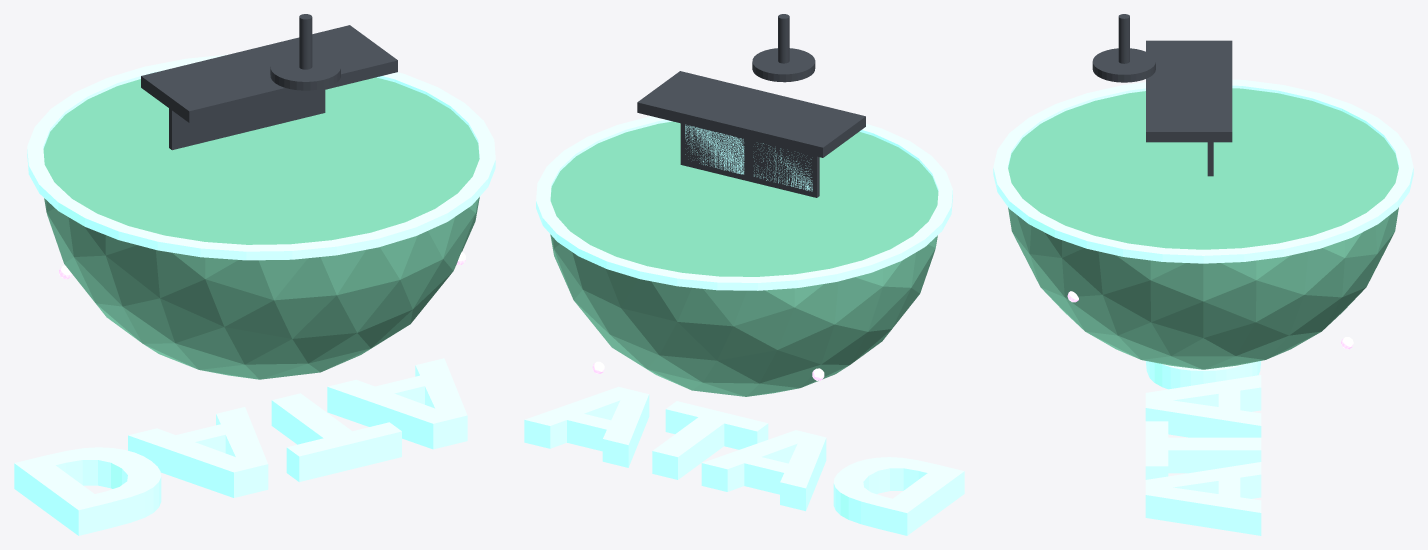
The model's file is data_dome.glb.
3 renders of one model, left to right at view 1: azimuth 30°, elevation 25°; view 2: azimuth 150°, elevation 25°; view 3: azimuth 270°, elevation 25°, orthographic. The views are drawn at different scales.
Visible parts, largest first — view 1: Dome_Glass, DATA_Text, Dome_Rim, Desk, Chair_Seat, Monitor_L, Monitor_R, Chair_Pole; view 2: Dome_Glass, DATA_Text, Dome_Rim, Desk, Monitor_L, Monitor_R, Chair_Seat, Monitor_R_Screen, Monitor_L_Screen, Chair_Pole; view 3: Dome_Glass, DATA_Text, Dome_Rim, Desk, Chair_Seat, Chair_Pole.
Boxes of the visible parts, <box> form: Dome_Glass: <box>43,77,479,379</box>; DATA_Text: <box>14,358,467,535</box>; Dome_Rim: <box>27,54,495,260</box>; Desk: <box>141,25,397,122</box>; Chair_Seat: <box>270,52,340,90</box>; Monitor_L: <box>169,108,248,150</box>; Monitor_R: <box>248,90,325,131</box>; Chair_Pole: <box>299,14,312,69</box>; Dome_Glass: <box>550,121,938,396</box>; DATA_Text: <box>524,386,964,535</box>; Dome_Rim: <box>536,116,952,290</box>; Desk: <box>637,71,865,157</box>; Monitor_L: <box>748,140,819,197</box>; Monitor_R: <box>680,123,748,181</box>; Chair_Seat: <box>752,48,815,82</box>; Monitor_R_Screen: <box>685,124,744,174</box>; Monitor_L_Screen: <box>753,143,812,191</box>; Chair_Pole: <box>778,14,789,63</box>; Dome_Glass: <box>1008,88,1398,369</box>; DATA_Text: <box>1145,361,1261,535</box>; Dome_Rim: <box>993,79,1413,263</box>; Desk: <box>1146,40,1232,142</box>; Chair_Seat: <box>1092,48,1155,82</box>; Chair_Pole: <box>1118,14,1129,63</box>.
Bounding box in the file's own units: 3.09 × 3.26 × 2.92.
